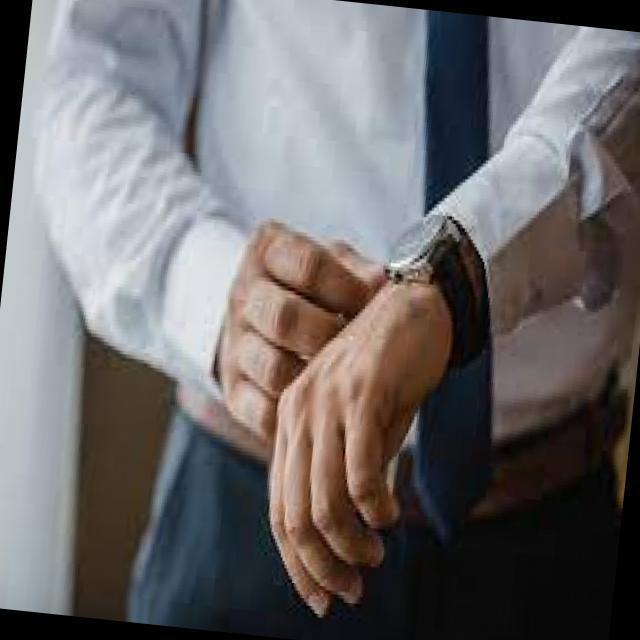Watch: (376, 210, 489, 364)
